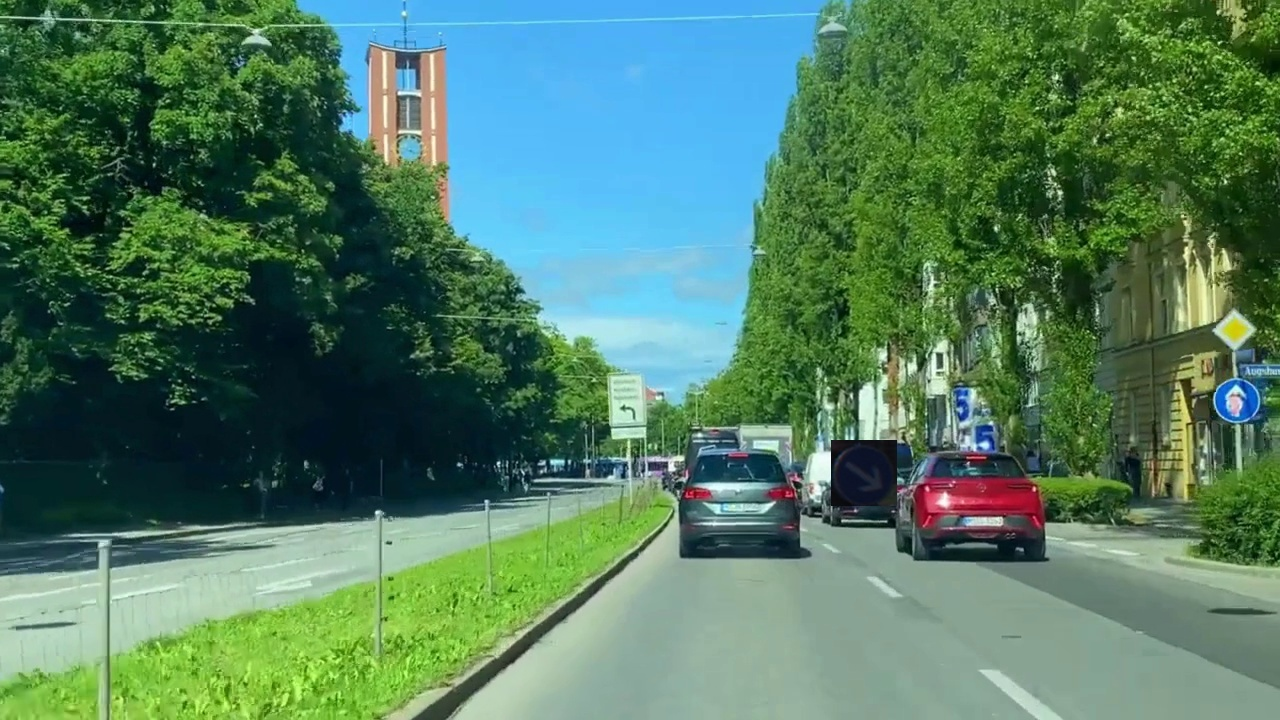Keep right: (831, 440, 897, 506)
